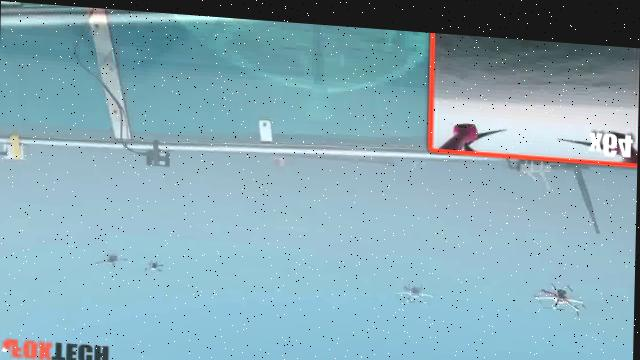drone: (134, 245, 183, 284)
